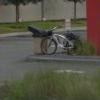Bicycle: (38, 25, 86, 58)
